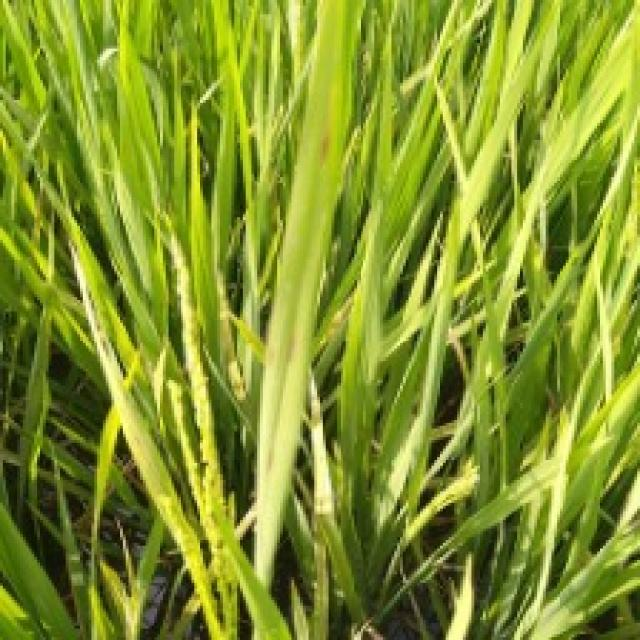Unhealthy: (72, 242, 147, 439)
